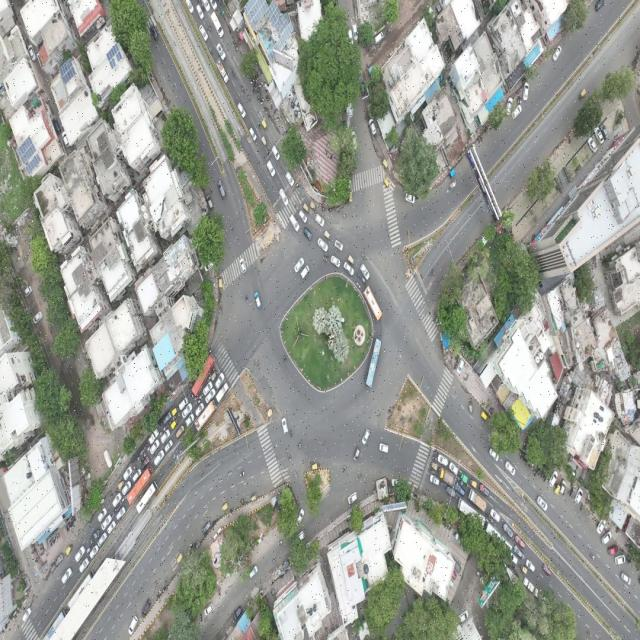3W: (577, 85, 587, 101), (65, 543, 74, 558), (176, 550, 185, 565), (220, 501, 230, 513), (310, 198, 318, 213), (449, 166, 458, 179), (479, 409, 488, 422), (568, 487, 577, 500), (262, 116, 269, 132), (260, 135, 268, 149), (117, 479, 126, 491), (170, 419, 179, 431), (430, 460, 439, 472), (250, 491, 259, 502), (469, 477, 478, 488), (553, 483, 560, 497), (520, 564, 528, 576), (348, 253, 355, 266), (384, 176, 391, 189), (310, 461, 319, 471), (324, 229, 331, 241), (382, 158, 389, 170), (210, 371, 218, 381), (171, 407, 179, 416), (303, 202, 309, 214)
Bus: (64, 566, 96, 611), (361, 334, 384, 392), (191, 350, 217, 398), (126, 465, 157, 505), (39, 607, 72, 640), (454, 498, 486, 530), (361, 284, 384, 326), (132, 482, 159, 514), (194, 399, 218, 433)
Cars: (126, 614, 139, 636), (141, 595, 152, 620), (265, 159, 277, 181), (74, 544, 87, 564), (536, 493, 549, 513), (504, 460, 519, 477), (216, 177, 227, 200), (288, 212, 300, 233), (153, 449, 166, 468), (61, 565, 73, 585), (284, 170, 296, 190), (278, 187, 290, 207), (515, 530, 527, 550), (180, 403, 193, 421), (620, 570, 633, 588), (21, 605, 33, 624), (53, 550, 65, 569), (89, 527, 101, 546), (96, 505, 108, 524), (587, 137, 599, 156), (596, 517, 608, 536), (513, 544, 525, 563), (509, 105, 523, 121), (295, 507, 305, 529), (253, 289, 263, 311), (551, 44, 562, 64), (593, 126, 604, 146), (216, 43, 228, 61), (479, 480, 491, 498), (448, 459, 460, 477), (346, 491, 360, 506), (79, 557, 90, 576), (149, 437, 160, 456), (248, 561, 259, 580), (198, 24, 209, 43), (599, 121, 610, 140), (548, 469, 559, 488), (121, 481, 134, 497), (204, 388, 217, 404), (280, 413, 289, 436), (314, 211, 326, 228), (343, 261, 355, 278), (601, 530, 613, 547), (502, 522, 514, 539), (205, 192, 215, 212), (149, 23, 159, 43), (237, 101, 247, 121), (271, 143, 281, 163), (368, 117, 378, 137), (362, 427, 372, 447), (106, 519, 117, 537), (101, 514, 112, 532), (132, 467, 143, 485), (316, 238, 329, 253), (404, 190, 417, 205), (607, 543, 620, 558), (160, 428, 172, 444), (202, 380, 214, 396), (352, 21, 360, 45), (614, 553, 626, 569), (379, 439, 391, 455), (123, 465, 133, 484), (233, 604, 243, 623), (97, 531, 108, 548), (214, 371, 225, 388), (330, 253, 341, 270), (541, 562, 552, 579), (522, 80, 530, 103), (294, 530, 307, 544), (445, 485, 458, 499), (437, 453, 450, 467), (428, 473, 441, 487), (202, 518, 212, 536), (294, 256, 304, 274), (360, 263, 370, 281), (359, 77, 368, 97), (352, 445, 361, 465), (175, 424, 186, 440), (303, 227, 314, 243), (346, 26, 354, 48), (374, 31, 385, 47), (488, 446, 499, 462), (525, 558, 536, 574), (490, 508, 501, 524), (248, 124, 257, 143), (456, 358, 465, 377), (89, 544, 99, 561), (185, 413, 195, 430), (574, 487, 584, 504), (559, 478, 567, 499), (163, 439, 174, 454), (194, 403, 205, 418), (203, 602, 214, 617), (334, 237, 345, 252), (455, 483, 466, 498), (195, 4, 204, 22), (506, 95, 513, 118), (112, 492, 122, 508), (163, 410, 173, 426), (298, 209, 308, 225), (593, 0, 606, 12), (239, 255, 247, 274), (116, 507, 126, 522), (141, 456, 151, 471), (185, 0, 195, 15), (301, 266, 311, 281), (201, 0, 211, 13), (209, 0, 219, 12)
LCV: (212, 55, 229, 89), (210, 8, 226, 39), (522, 577, 536, 594), (459, 470, 468, 483)
M2W: (281, 353, 288, 365), (287, 452, 294, 464), (293, 468, 299, 481), (385, 26, 392, 37), (297, 440, 304, 451), (277, 538, 284, 549), (238, 470, 246, 479), (512, 562, 519, 572), (255, 358, 261, 369), (355, 280, 361, 291), (209, 44, 214, 57), (255, 94, 263, 102), (361, 276, 368, 285), (589, 553, 596, 562), (459, 481, 468, 488), (429, 468, 436, 477), (271, 556, 278, 565), (86, 545, 92, 555), (108, 491, 114, 501), (207, 23, 213, 33), (231, 70, 237, 80), (295, 183, 301, 193), (479, 133, 485, 143), (515, 90, 522, 98), (245, 294, 250, 305), (240, 83, 245, 94), (257, 119, 262, 130), (35, 556, 41, 565), (31, 547, 37, 556), (118, 475, 124, 484), (246, 93, 252, 102), (430, 268, 436, 277), (485, 511, 491, 520), (161, 85, 166, 95), (260, 97, 265, 107), (267, 95, 272, 105), (289, 428, 294, 438), (218, 306, 224, 314), (48, 539, 53, 548), (211, 366, 216, 375), (477, 137, 482, 146), (119, 497, 125, 504), (124, 493, 130, 500), (324, 251, 330, 258), (356, 271, 362, 278), (433, 448, 439, 455), (57, 531, 61, 541), (65, 525, 70, 533), (230, 223, 235, 231), (362, 250, 366, 260), (530, 461, 534, 471), (537, 466, 541, 476), (580, 500, 584, 510), (624, 541, 629, 549), (489, 517, 494, 525), (115, 487, 119, 496), (133, 463, 137, 472), (162, 426, 168, 432), (172, 415, 178, 421), (198, 394, 204, 400), (207, 374, 211, 383), (235, 44, 239, 53), (228, 24, 231, 36), (293, 200, 297, 209), (522, 453, 525, 465), (543, 474, 547, 483), (619, 548, 625, 554), (68, 522, 73, 529), (116, 505, 121, 512), (177, 411, 182, 418), (250, 79, 255, 86), (256, 88, 261, 95), (265, 94, 270, 101), (440, 480, 445, 487), (629, 554, 632, 565), (137, 454, 141, 462), (144, 451, 148, 459), (139, 449, 144, 455), (194, 396, 199, 402), (322, 257, 328, 262), (626, 552, 629, 562), (433, 455, 438, 461), (113, 507, 117, 514), (159, 431, 163, 438), (168, 420, 172, 427), (191, 392, 195, 399), (255, 84, 259, 91), (269, 105, 273, 112), (533, 470, 537, 477), (202, 4, 205, 13), (256, 74, 259, 83), (521, 451, 524, 460), (72, 518, 76, 524), (148, 446, 152, 452), (197, 400, 201, 406), (187, 389, 191, 395), (190, 382, 194, 388), (262, 104, 265, 112), (266, 105, 268, 117), (273, 108, 276, 116), (276, 117, 280, 123), (321, 207, 327, 211), (456, 475, 460, 481), (267, 150, 270, 157), (251, 88, 254, 93), (527, 457, 528, 467)
Truck: (468, 490, 489, 513), (438, 467, 457, 486)
